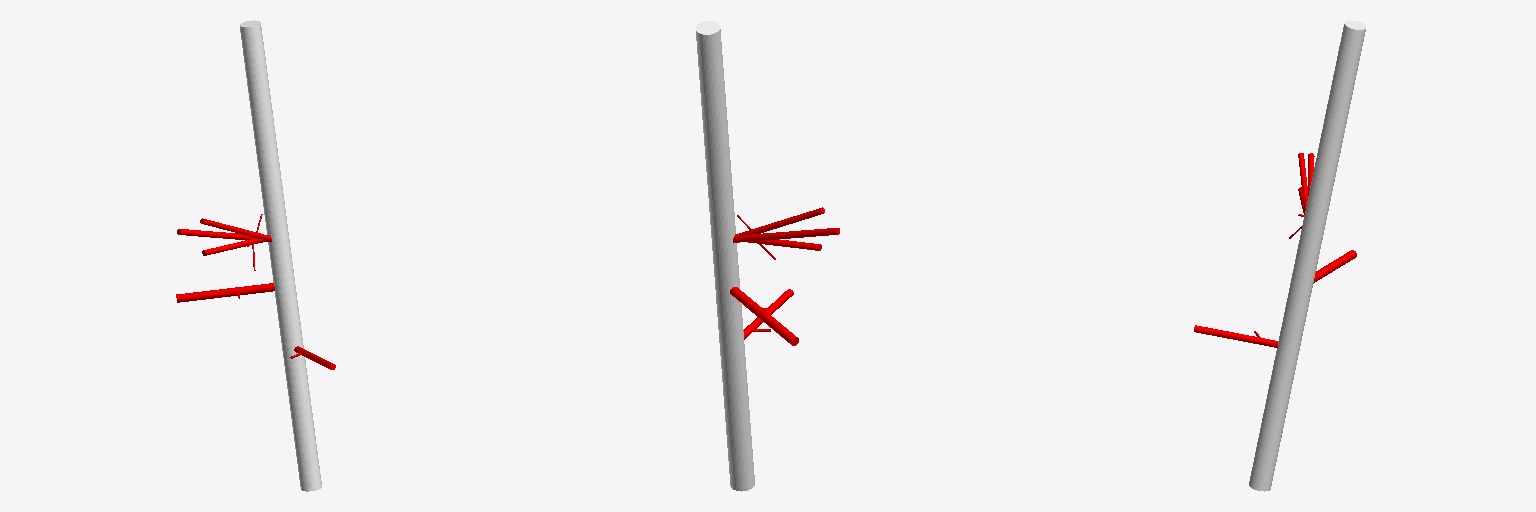
URDF robot description (tree_108.urdf):
<?xml version='1.0' encoding='UTF-8'?>
<robot name="tree_108.urdf">
  <link name="branch_0">
    <inertial>
      <origin xyz="0.0 0.0 0.0" rpy="0.0 -0.0 0.0"/>
      <mass value="0.1"/>
      <inertia ixx="0.001" ixy="0.0" ixz="0.0" iyy="0.001" iyz="0.0" izz="0.001"/>
    </inertial>
    <visual name="branch_0_visual">
      <geometry>
        <cylinder radius="0.17501052090092373" length="7.902453346037724"/>
      </geometry>
      <material name="branch_material"/>
      <origin xyz="-0.14519881497602 0.740648717195321 3.878472509045564" rpy="-1.3877787807814457e-17 0.19219699999123632 1.7643839638655756"/>
    </visual>
    <collision name="branch_0_collision">
      <geometry>
        <cylinder radius="0.17501052090092373" length="7.902453346037724"/>
      </geometry>
      <origin xyz="-0.14519881497602 0.740648717195321 3.878472509045564" rpy="-1.3877787807814457e-17 0.19219699999123632 1.7643839638655756"/>
    </collision>
  </link>
  <link name="branch_1">
    <inertial>
      <origin xyz="0.0 0.0 0.0" rpy="0.0 -0.0 0.0"/>
      <mass value="0.1"/>
      <inertia ixx="0.001" ixy="0.0" ixz="0.0" iyy="0.001" iyz="0.0" izz="0.001"/>
    </inertial>
    <visual name="branch_1_visual">
      <geometry>
        <cylinder radius="0.04548114797052988" length="1.7157222825294993"/>
      </geometry>
      <material name="semantic_material"/>
      <origin xyz="0.0 0.0 0.0" rpy="0.0 -0.0 0.0"/>
    </visual>
    <collision name="branch_1_collision">
      <geometry>
        <cylinder radius="0.04548114797052988" length="1.7157222825294993"/>
      </geometry>
      <origin xyz="0.0 0.0 0.0" rpy="0.0 -0.0 0.0"/>
    </collision>
  </link>
  <link name="branch_2">
    <inertial>
      <origin xyz="0.0 0.0 0.0" rpy="0.0 -0.0 0.0"/>
      <mass value="0.1"/>
      <inertia ixx="0.001" ixy="0.0" ixz="0.0" iyy="0.001" iyz="0.0" izz="0.001"/>
    </inertial>
    <visual name="branch_2_visual">
      <geometry>
        <cylinder radius="0.013556402980265546" length="0.35799797688872115"/>
      </geometry>
      <material name="semantic_material"/>
      <origin xyz="0.0 0.0 0.0" rpy="0.0 -0.0 0.0"/>
    </visual>
    <collision name="branch_2_collision">
      <geometry>
        <cylinder radius="0.013556402980265546" length="0.35799797688872115"/>
      </geometry>
      <origin xyz="0.0 0.0 0.0" rpy="0.0 -0.0 0.0"/>
    </collision>
  </link>
  <link name="branch_3">
    <inertial>
      <origin xyz="0.0 0.0 0.0" rpy="0.0 -0.0 0.0"/>
      <mass value="0.1"/>
      <inertia ixx="0.001" ixy="0.0" ixz="0.0" iyy="0.001" iyz="0.0" izz="0.001"/>
    </inertial>
    <visual name="branch_3_visual">
      <geometry>
        <cylinder radius="0.055097218379452174" length="1.4935556807883874"/>
      </geometry>
      <material name="semantic_material"/>
      <origin xyz="0.0 0.0 0.0" rpy="0.0 -0.0 0.0"/>
    </visual>
    <collision name="branch_3_collision">
      <geometry>
        <cylinder radius="0.055097218379452174" length="1.4935556807883874"/>
      </geometry>
      <origin xyz="0.0 0.0 0.0" rpy="0.0 -0.0 0.0"/>
    </collision>
  </link>
  <link name="branch_4">
    <inertial>
      <origin xyz="0.0 0.0 0.0" rpy="0.0 -0.0 0.0"/>
      <mass value="0.1"/>
      <inertia ixx="0.001" ixy="0.0" ixz="0.0" iyy="0.001" iyz="0.0" izz="0.001"/>
    </inertial>
    <visual name="branch_4_visual">
      <geometry>
        <cylinder radius="0.019072950434657246" length="0.3248844510619355"/>
      </geometry>
      <material name="semantic_material"/>
      <origin xyz="0.0 0.0 0.0" rpy="0.0 -0.0 0.0"/>
    </visual>
    <collision name="branch_4_collision">
      <geometry>
        <cylinder radius="0.019072950434657246" length="0.3248844510619355"/>
      </geometry>
      <origin xyz="0.0 0.0 0.0" rpy="0.0 -0.0 0.0"/>
    </collision>
  </link>
  <link name="branch_5">
    <inertial>
      <origin xyz="0.0 0.0 0.0" rpy="0.0 -0.0 0.0"/>
      <mass value="0.1"/>
      <inertia ixx="0.001" ixy="0.0" ixz="0.0" iyy="0.001" iyz="0.0" izz="0.001"/>
    </inertial>
    <visual name="branch_5_visual">
      <geometry>
        <cylinder radius="0.05041675457530092" length="1.946754990306726"/>
      </geometry>
      <material name="semantic_material"/>
      <origin xyz="0.0 0.0 0.0" rpy="0.0 -0.0 0.0"/>
    </visual>
    <collision name="branch_5_collision">
      <geometry>
        <cylinder radius="0.05041675457530092" length="1.946754990306726"/>
      </geometry>
      <origin xyz="0.0 0.0 0.0" rpy="0.0 -0.0 0.0"/>
    </collision>
  </link>
  <link name="branch_6">
    <inertial>
      <origin xyz="0.0 0.0 0.0" rpy="0.0 -0.0 0.0"/>
      <mass value="0.1"/>
      <inertia ixx="0.001" ixy="0.0" ixz="0.0" iyy="0.001" iyz="0.0" izz="0.001"/>
    </inertial>
    <visual name="branch_6_visual">
      <geometry>
        <cylinder radius="0.015135384081385796" length="0.5596938649991074"/>
      </geometry>
      <material name="semantic_material"/>
      <origin xyz="0.0 0.0 0.0" rpy="0.0 -0.0 0.0"/>
    </visual>
    <collision name="branch_6_collision">
      <geometry>
        <cylinder radius="0.015135384081385796" length="0.5596938649991074"/>
      </geometry>
      <origin xyz="0.0 0.0 0.0" rpy="0.0 -0.0 0.0"/>
    </collision>
  </link>
  <link name="branch_7">
    <inertial>
      <origin xyz="0.0 0.0 0.0" rpy="0.0 -0.0 0.0"/>
      <mass value="0.1"/>
      <inertia ixx="0.001" ixy="0.0" ixz="0.0" iyy="0.001" iyz="0.0" izz="0.001"/>
    </inertial>
    <visual name="branch_7_visual">
      <geometry>
        <cylinder radius="0.04765298955365343" length="1.489414595043977"/>
      </geometry>
      <material name="semantic_material"/>
      <origin xyz="0.0 0.0 0.0" rpy="0.0 -0.0 0.0"/>
    </visual>
    <collision name="branch_7_collision">
      <geometry>
        <cylinder radius="0.04765298955365343" length="1.489414595043977"/>
      </geometry>
      <origin xyz="0.0 0.0 0.0" rpy="0.0 -0.0 0.0"/>
    </collision>
  </link>
  <link name="branch_8">
    <inertial>
      <origin xyz="0.0 0.0 0.0" rpy="0.0 -0.0 0.0"/>
      <mass value="0.1"/>
      <inertia ixx="0.001" ixy="0.0" ixz="0.0" iyy="0.001" iyz="0.0" izz="0.001"/>
    </inertial>
    <visual name="branch_8_visual">
      <geometry>
        <cylinder radius="0.01824561300576567" length="0.15623292698721275"/>
      </geometry>
      <material name="semantic_material"/>
      <origin xyz="0.0 0.0 0.0" rpy="0.0 -0.0 0.0"/>
    </visual>
    <collision name="branch_8_collision">
      <geometry>
        <cylinder radius="0.01824561300576567" length="0.15623292698721275"/>
      </geometry>
      <origin xyz="0.0 0.0 0.0" rpy="0.0 -0.0 0.0"/>
    </collision>
  </link>
  <link name="branch_9">
    <inertial>
      <origin xyz="0.0 0.0 0.0" rpy="0.0 -0.0 0.0"/>
      <mass value="0.1"/>
      <inertia ixx="0.001" ixy="0.0" ixz="0.0" iyy="0.001" iyz="0.0" izz="0.001"/>
    </inertial>
    <visual name="branch_9_visual">
      <geometry>
        <cylinder radius="0.0683541734693101" length="1.7619826447534979"/>
      </geometry>
      <material name="semantic_material"/>
      <origin xyz="0.0 0.0 0.0" rpy="0.0 -0.0 0.0"/>
    </visual>
    <collision name="branch_9_collision">
      <geometry>
        <cylinder radius="0.0683541734693101" length="1.7619826447534979"/>
      </geometry>
      <origin xyz="0.0 0.0 0.0" rpy="0.0 -0.0 0.0"/>
    </collision>
  </link>
  <link name="branch_10">
    <inertial>
      <origin xyz="0.0 0.0 0.0" rpy="0.0 -0.0 0.0"/>
      <mass value="0.1"/>
      <inertia ixx="0.001" ixy="0.0" ixz="0.0" iyy="0.001" iyz="0.0" izz="0.001"/>
    </inertial>
    <visual name="branch_10_visual">
      <geometry>
        <cylinder radius="0.01670670847122368" length="0.1762417334386289"/>
      </geometry>
      <material name="semantic_material"/>
      <origin xyz="0.0 0.0 0.0" rpy="0.0 -0.0 0.0"/>
    </visual>
    <collision name="branch_10_collision">
      <geometry>
        <cylinder radius="0.01670670847122368" length="0.1762417334386289"/>
      </geometry>
      <origin xyz="0.0 0.0 0.0" rpy="0.0 -0.0 0.0"/>
    </collision>
  </link>
  <joint name="joint_0_1" type="fixed">
    <parent link="branch_0"/>
    <child link="branch_1"/>
    <axis xyz="1. 0. 0."/>
    <origin xyz="-0.9161491531417487 0.7137310227029955 4.5132581206271505" rpy="0.3999592658463752 1.0580616232289655 -2.592911634037683"/>
  </joint>
  <joint name="joint_0_3" type="fixed">
    <parent link="branch_0"/>
    <child link="branch_3"/>
    <axis xyz="1. 0. 0."/>
    <origin xyz="-0.1388673504117773 -0.2837990742826836 2.4856411925778894" rpy="0.27058736955331986 1.3871066496334392 -1.3648750547030695"/>
  </joint>
  <joint name="joint_0_5" type="fixed">
    <parent link="branch_0"/>
    <child link="branch_5"/>
    <axis xyz="1. 0. 0."/>
    <origin xyz="-1.0852968770763185 0.7947029178672423 4.435311070879477" rpy="0.5702571140731707 1.212534541678522 -2.5439101911373356"/>
  </joint>
  <joint name="joint_0_7" type="fixed">
    <parent link="branch_0"/>
    <child link="branch_7"/>
    <axis xyz="1. 0. 0."/>
    <origin xyz="-0.8964197759782422 0.7241670351380542 4.265227302523164" rpy="1.2314368045991695 1.3673263465224188 -1.7947429618305832"/>
  </joint>
  <joint name="joint_0_9" type="fixed">
    <parent link="branch_0"/>
    <child link="branch_9"/>
    <axis xyz="1. 0. 0."/>
    <origin xyz="-0.9057179003502374 1.0454521560412058 3.2850335360264373" rpy="2.1944458611725635 1.386055299669032 -1.429612126317481"/>
  </joint>
  <joint name="joint_1_2" type="fixed">
    <parent link="branch_0"/>
    <child link="branch_2"/>
    <axis xyz="1. 0. 0."/>
    <origin xyz="-0.5118888792382855 0.8129597348587492 4.491683464781234" rpy="-0.37230687496826814 0.6008244844272081 0.03971854599731704"/>
  </joint>
  <joint name="joint_3_4" type="fixed">
    <parent link="branch_0"/>
    <child link="branch_4"/>
    <axis xyz="1. 0. 0."/>
    <origin xyz="-0.26768135813548805 -0.0145602835973426 2.440678272121556" rpy="-1.486198239526643 0.15589460168511732 1.945652049600598"/>
  </joint>
  <joint name="joint_5_6" type="fixed">
    <parent link="branch_0"/>
    <child link="branch_6"/>
    <axis xyz="1. 0. 0."/>
    <origin xyz="-0.7169694469192123 0.6280913342879479 4.085578798430957" rpy="2.499670721285311 0.33304201412552936 -0.028837890504051687"/>
  </joint>
  <joint name="joint_7_8" type="fixed">
    <parent link="branch_0"/>
    <child link="branch_8"/>
    <axis xyz="1. 0. 0."/>
    <origin xyz="-0.7858697828644869 0.6743719810509357 4.261819224556232" rpy="1.48299940412861 0.016970395274322977 -0.5516522237459314"/>
  </joint>
  <joint name="joint_9_10" type="fixed">
    <parent link="branch_0"/>
    <child link="branch_10"/>
    <axis xyz="1. 0. 0."/>
    <origin xyz="-0.8403754023265196 0.9175682277849163 3.2753131205309995" rpy="1.8071882600201559 -0.1500841979494246 -0.3046388736413848"/>
  </joint>
  <material name="branch_material">
    <color rgba="1. 1. 1. 1."/>
  </material>
  <material name="semantic_material">
    <color rgba="1. 0. 0. 1."/>
  </material>
</robot>

--- What the picture shows (computed from the rendered views, not written in the file) ---
3 views of the same robot in one strip: view 1: azimuth 30°, elevation 25°; view 2: azimuth 150°, elevation 25°; view 3: azimuth 270°, elevation 25° (orthographic).
Model tree_108.urdf with 11 links and 10 joints (10 fixed), rooted at branch_0, posed every joint at zero.
Visible links, largest first — view 1: branch_0, branch_9; view 2: branch_0, branch_9, branch_5, branch_1; view 3: branch_0, branch_3.
Link boxes in pixels (x1,y1,x2,y2): branch_0: [240, 20, 321, 491]; branch_9: [176, 283, 274, 302]; branch_0: [696, 20, 754, 491]; branch_9: [730, 287, 798, 345]; branch_5: [733, 228, 839, 242]; branch_1: [737, 207, 824, 235]; branch_0: [1249, 21, 1365, 491]; branch_3: [1194, 325, 1277, 347].
Bounding box of the posed robot: 2.21 × 2.68 × 7.82 m (x, y, z).
Geometry: primitives only (box / cylinder / sphere), no mesh files.